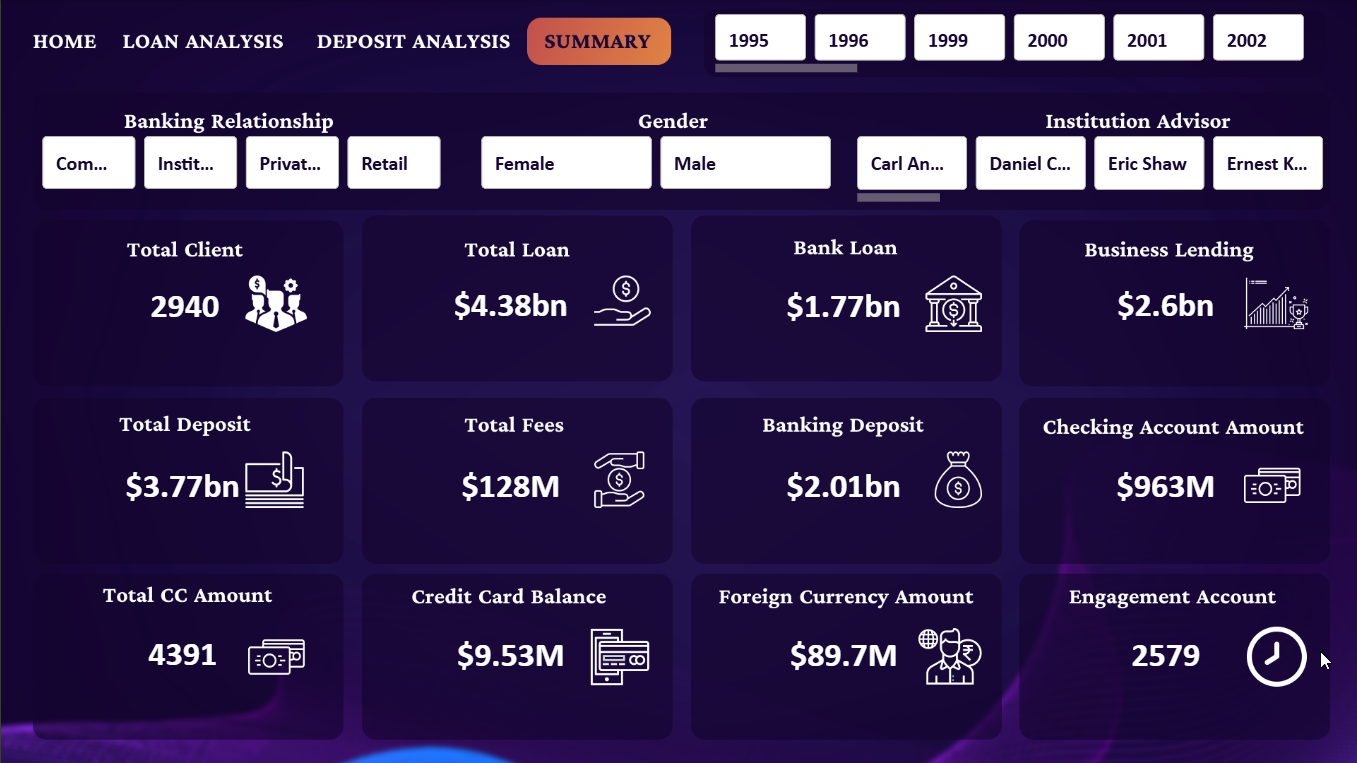

The page's visual inventory and layout, read from the dashboard file:
{"tool":"powerbi","page":{"name":"Summary","canvas":[1280,720],"ordinal":3},"visuals":[{"type":"actionButton","box":[25.1,26,67.3,25.1],"z":0},{"type":"actionButton","box":[113.1,26,155.3,25.1],"z":1000},{"type":"actionButton","box":[290,26,192.1,25.1],"z":2000},{"type":"advancedSlicerVisual","fields":{"Values":["Clients - Banking.Year"]},"box":[669.6,13.4,571.2,57.3],"z":3000},{"type":"advancedSlicerVisual","fields":{"Values":["Clients - Banking.GenderId"]},"box":[448,128.4,340.2,50.3],"z":4000},{"type":"advancedSlicerVisual","fields":{"Values":["Investment Advisor.Investment Advisor"]},"box":[803.5,128.4,450.7,64.6],"z":5000},{"type":"advancedSlicerVisual","fields":{"Values":["Banking Relationship.Banking Relationship"]},"box":[34.1,128.4,388.7,50.3],"z":6000},{"type":"card","fields":{"Values":["Count(Clients - Banking.Client ID)"]},"box":[92.5,258.6,161.8,57.9],"z":7000},{"type":"card","fields":{"Values":["Clients - Banking.Total loan"]},"box":[400.4,257.7,161.8,57.9],"z":8000},{"type":"card","fields":{"Values":["Sum(Clients - Banking.Bank Loans)"]},"box":[714.6,258.6,161.6,57.5],"z":9000},{"type":"card","fields":{"Values":["Sum(Clients - Banking.Business Lending)"]},"box":[1019,257.7,161.8,57.9],"z":10000},{"type":"card","fields":{"Values":["Clients - Banking.Total Deposit"]},"box":[90.7,428.2,161.6,57.5],"z":11000},{"type":"card","fields":{"Values":["Sum(Clients - Banking.Bank Deposits)"]},"box":[714.6,428.2,161.6,57.5],"z":12000},{"type":"card","fields":{"Values":["Sum(Clients - Banking.Checking Accounts)"]},"box":[1019,428.2,161.8,57.9],"z":13000},{"type":"card","fields":{"Values":["Sum(Clients - Banking.Credit Card Balance)"]},"box":[400.4,588,161.8,57.9],"z":14000},{"type":"card","fields":{"Values":["Sum(Clients - Banking.Amount of Credit Cards)"]},"box":[90.7,587.1,161.8,57.9],"z":15000},{"type":"card","fields":{"Values":["Count(Clients - Banking.Engagement Days)"]},"box":[1018.5,588.1,161.8,57.9],"z":16000},{"type":"card","fields":{"Values":["Sum(Clients - Banking.Foreign Currency Account)"]},"box":[714.6,588.1,161.8,57.9],"z":17000},{"type":"card","fields":{"Values":["Sum(Clients - Banking.Total Fees)"]},"box":[400.2,428.6,161.6,57.5],"z":18000}]}

Visuals, with their boxes in screenshot pixels (x1, y1, x2, y2), scaled from the page's 1280x720 canvas onto the 1357x763 screenshot:
actionButton: 27, 28, 98, 54
actionButton: 120, 28, 285, 54
actionButton: 307, 28, 511, 54
advancedSlicerVisual - Clients - Banking.Year: 710, 14, 1315, 75
advancedSlicerVisual - Clients - Banking.GenderId: 475, 136, 836, 189
advancedSlicerVisual - Investment Advisor.Investment Advisor: 852, 136, 1330, 205
advancedSlicerVisual - Banking Relationship.Banking Relationship: 36, 136, 448, 189
card - Count(Clients - Banking.Client ID): 98, 274, 270, 335
card - Clients - Banking.Total loan: 424, 273, 596, 334
card - Sum(Clients - Banking.Bank Loans): 758, 274, 929, 335
card - Sum(Clients - Banking.Business Lending): 1080, 273, 1252, 334
card - Clients - Banking.Total Deposit: 96, 454, 267, 515
card - Sum(Clients - Banking.Bank Deposits): 758, 454, 929, 515
card - Sum(Clients - Banking.Checking Accounts): 1080, 454, 1252, 515
card - Sum(Clients - Banking.Credit Card Balance): 424, 623, 596, 684
card - Sum(Clients - Banking.Amount of Credit Cards): 96, 622, 268, 684
card - Count(Clients - Banking.Engagement Days): 1080, 623, 1251, 685
card - Sum(Clients - Banking.Foreign Currency Account): 758, 623, 929, 685
card - Sum(Clients - Banking.Total Fees): 424, 454, 596, 515
